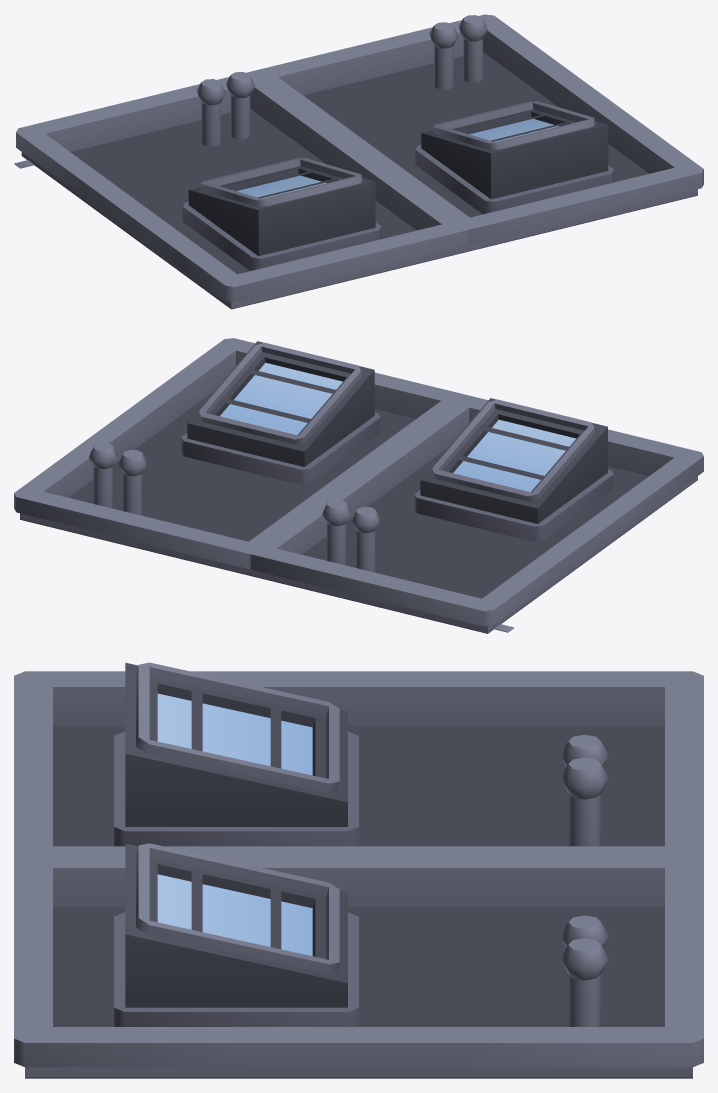
The model's file is industrial-d.glb.
3 renders of one model, top to bottom at view 1: azimuth 30°, elevation 25°; view 2: azimuth 150°, elevation 25°; view 3: azimuth 270°, elevation 25°, orthographic. The views are drawn at different scales.
Parts seen in each view (by area): view 1: building-d; view 2: building-d; view 3: building-d.
Boxes of the visible parts, x1=… form: building-d: x1=14, y1=14, x2=703, y2=309; building-d: x1=14, y1=338, x2=703, y2=633; building-d: x1=14, y1=662, x2=703, y2=1078.
Size of the model in its own units: 15.85 by 2.07 by 12.23.
Materials: 1 (1 with a texture image).
